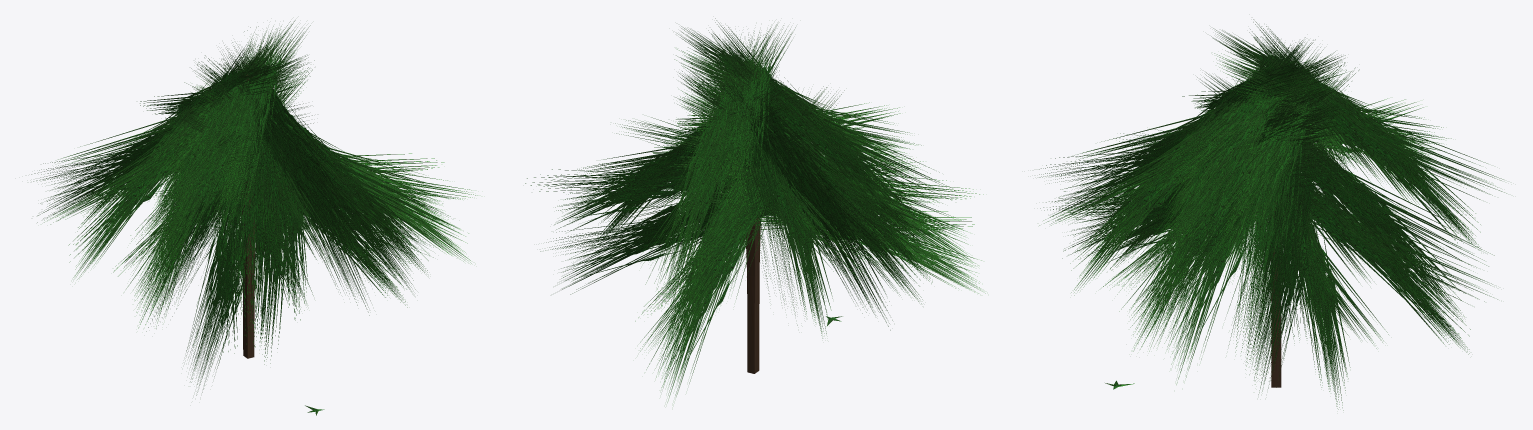
Rendered from tree.glb.
3 renders of one model, left to right at view 1: azimuth 30°, elevation 25°; view 2: azimuth 150°, elevation 25°; view 3: azimuth 270°, elevation 25°, orthographic. The views are drawn at different scales.
Visible parts, largest first — view 1: Cube; view 2: Cube; view 3: Cube.
Part boxes in pixels (box(x1,y1,x2,y2)): Cube: box(242, 74, 255, 358); Cube: box(745, 73, 760, 373); Cube: box(1270, 203, 1281, 387).
Size of the model in its own units: 17.26 by 13.93 by 16.86.
Materials: 2 (2 with a texture image).
